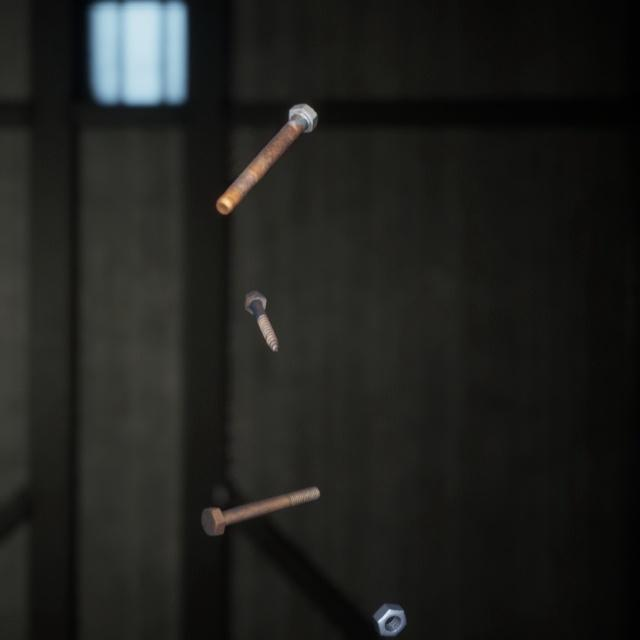bolt: (211, 85, 322, 204), (196, 460, 324, 517), (238, 268, 283, 337)
nut: (368, 576, 411, 618)
